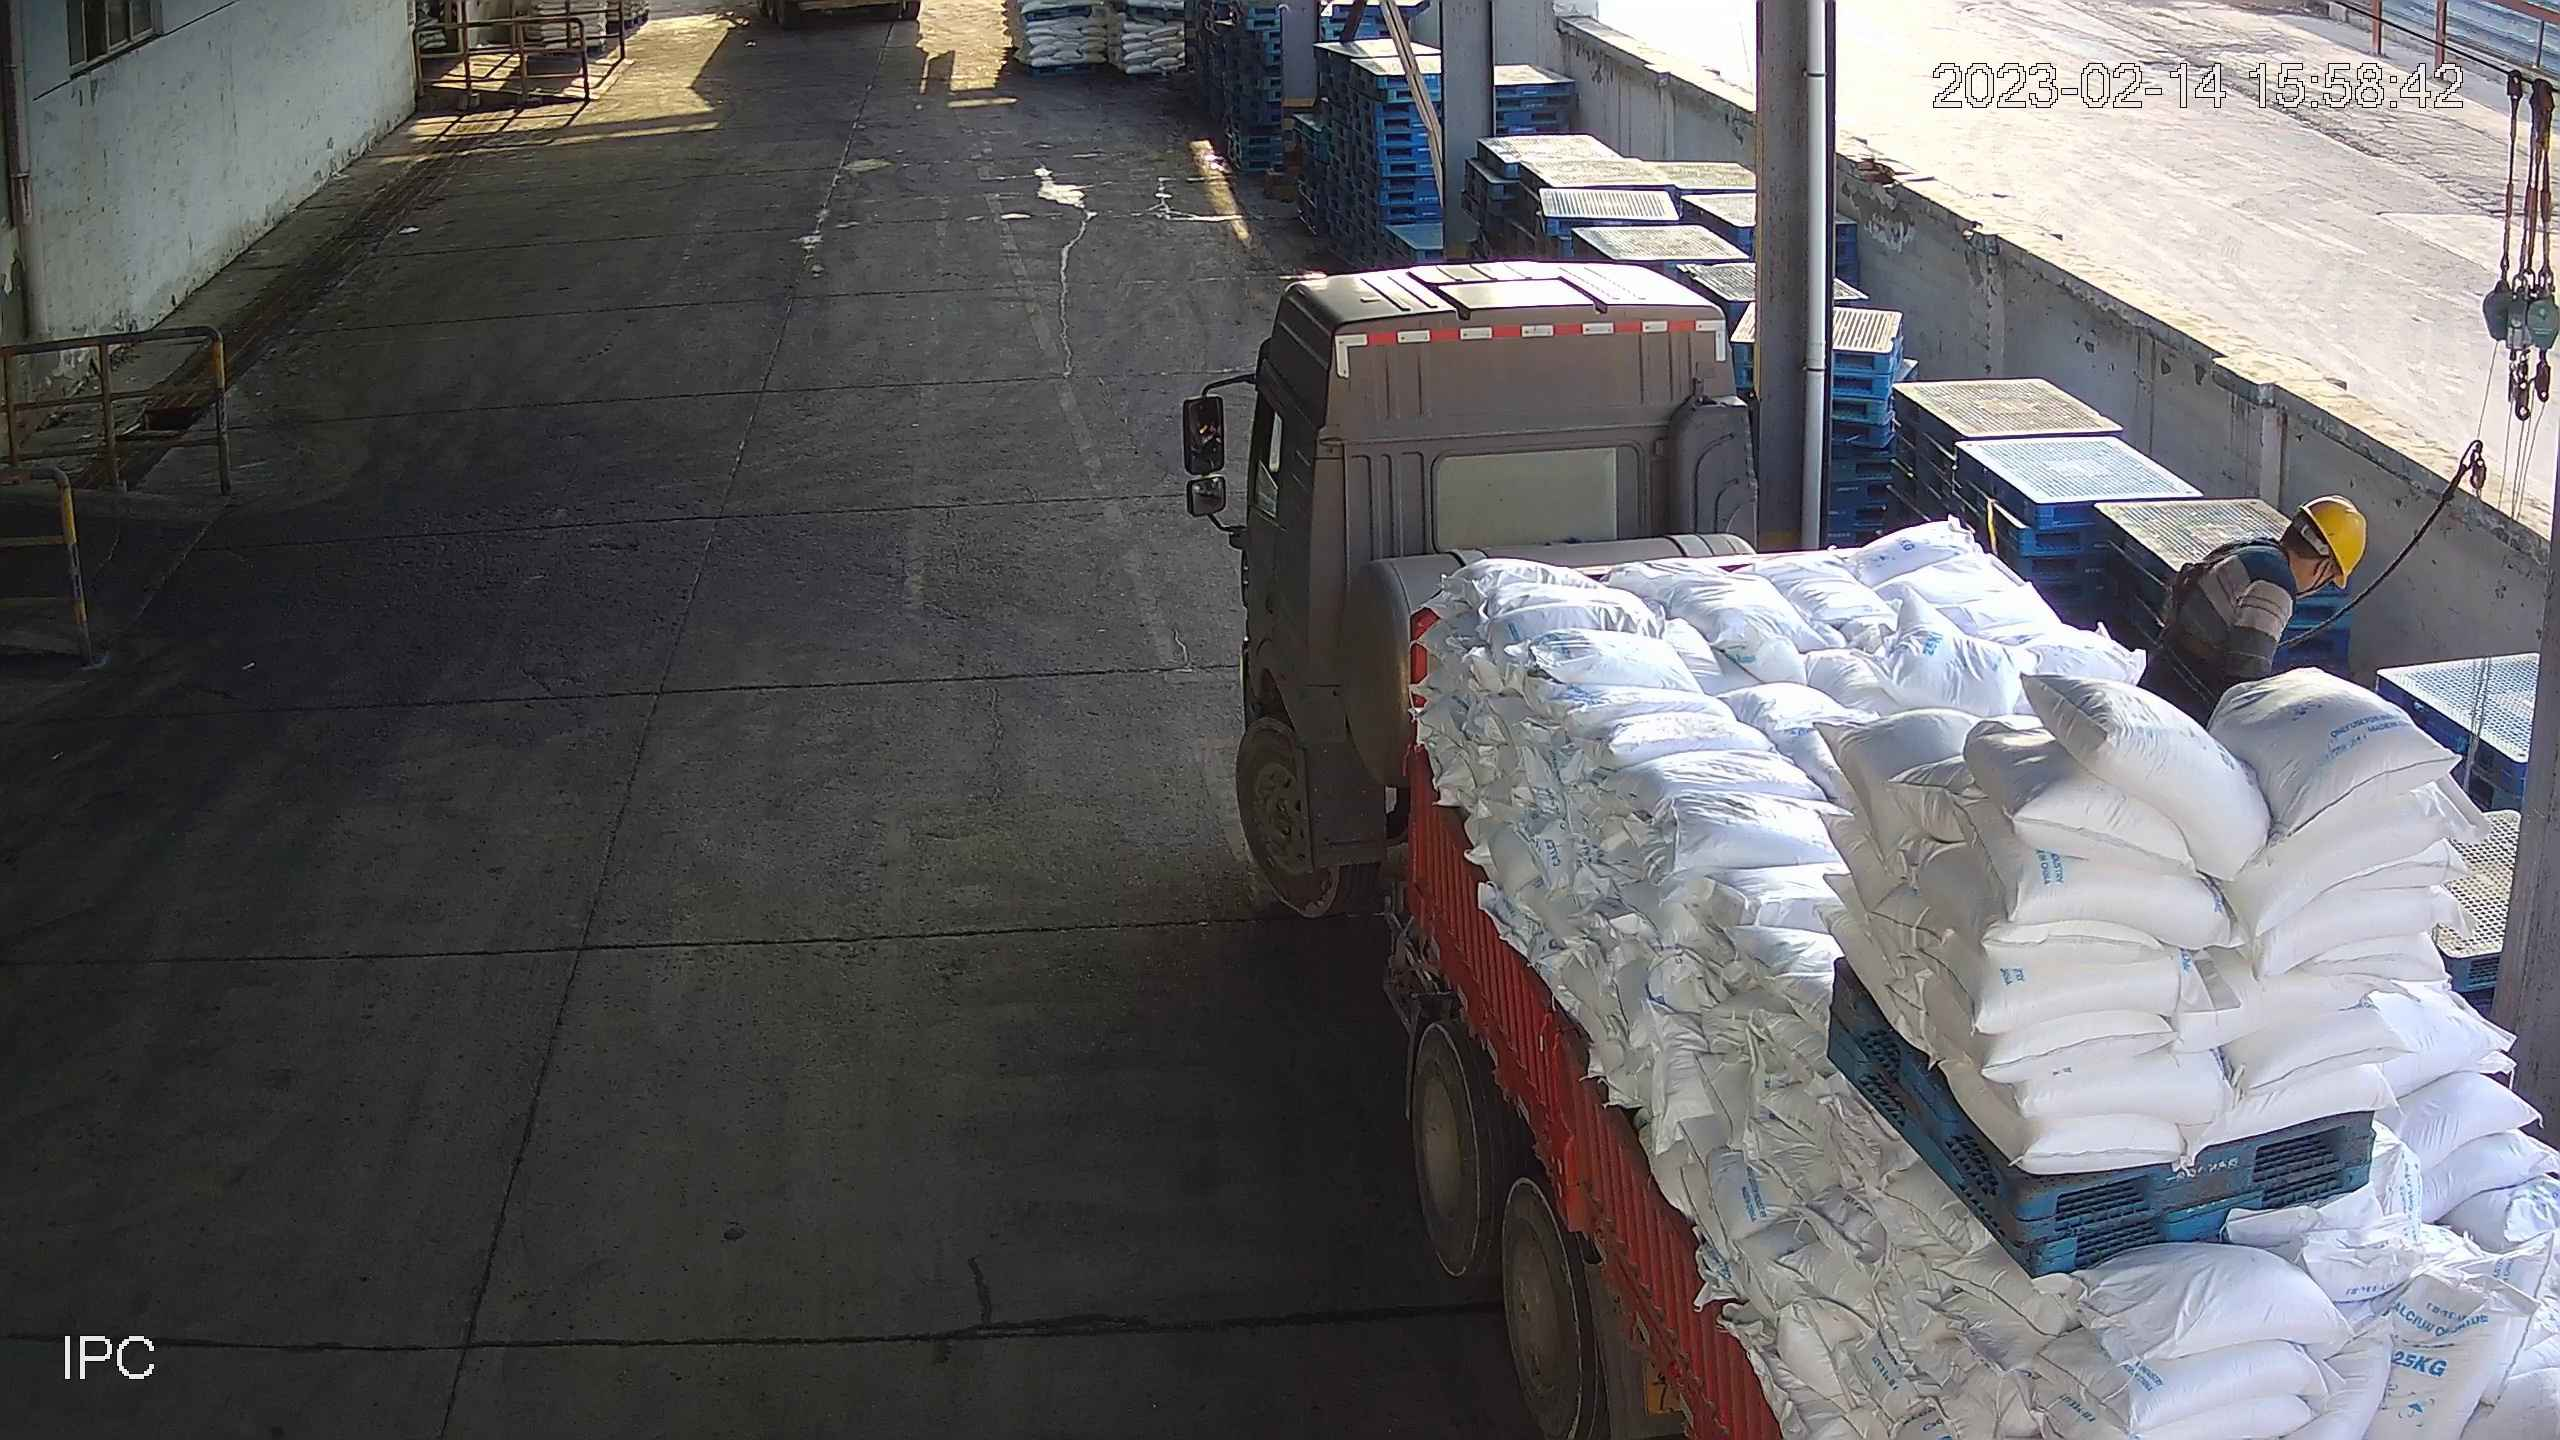belt: (2162, 531, 2235, 663)
head: (2143, 492, 2371, 657)
helmet: (2302, 497, 2368, 590)
truck: (1176, 256, 2560, 1440)
